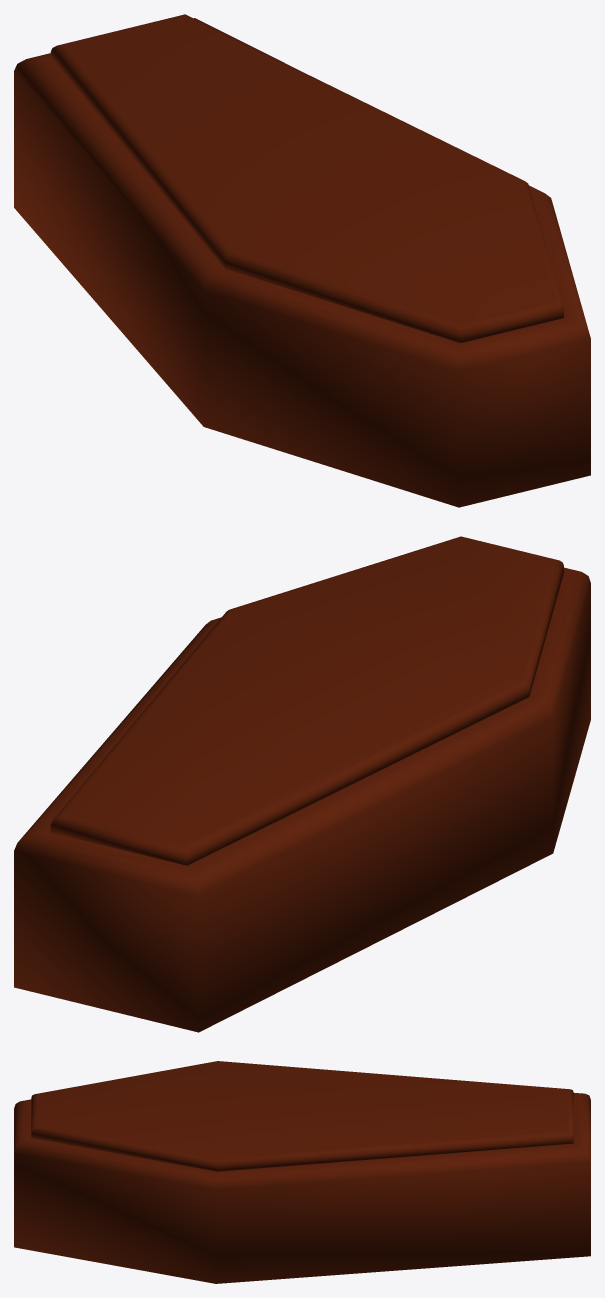
Rendered from Coffin.fbx.
3 renders of one model, top to bottom at view 1: azimuth 30°, elevation 25°; view 2: azimuth 150°, elevation 25°; view 3: azimuth 270°, elevation 25°, orthographic. The views are drawn at different scales.
Visible parts, largest first — view 1: Coffin, Cap; view 2: Coffin, Cap; view 3: Coffin, Cap.
Part boxes in pixels (x1,y1,x2,y2): Coffin: (14,18,590,507); Cap: (50,14,563,342); Coffin: (14,567,590,1032); Cap: (50,536,563,865); Coffin: (14,1093,590,1283); Cap: (31,1061,573,1171).
Size of the model in its own units: 193 by 88 by 400.
